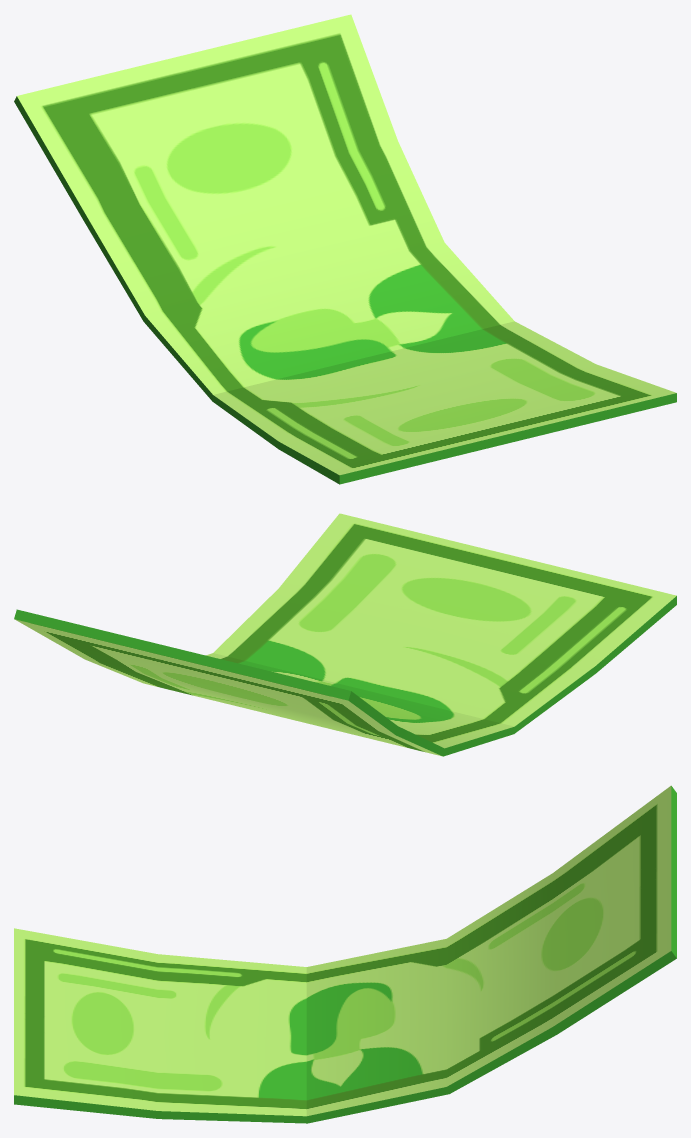
File: money_single.fbx
3 views of the same model, one above another, from view 1: azimuth 30°, elevation 25°; view 2: azimuth 150°, elevation 25°; view 3: azimuth 270°, elevation 25° (orthographic).
Parts seen in each view (by area): view 1: Cube; view 2: Cube; view 3: Cube.
Boxes of the visible parts, box(x1,y1,x2,y2) form: Cube: box(14, 14, 676, 484); Cube: box(14, 513, 676, 756); Cube: box(14, 785, 676, 1123).
Size of the model in its own units: 200 by 101 by 336.
